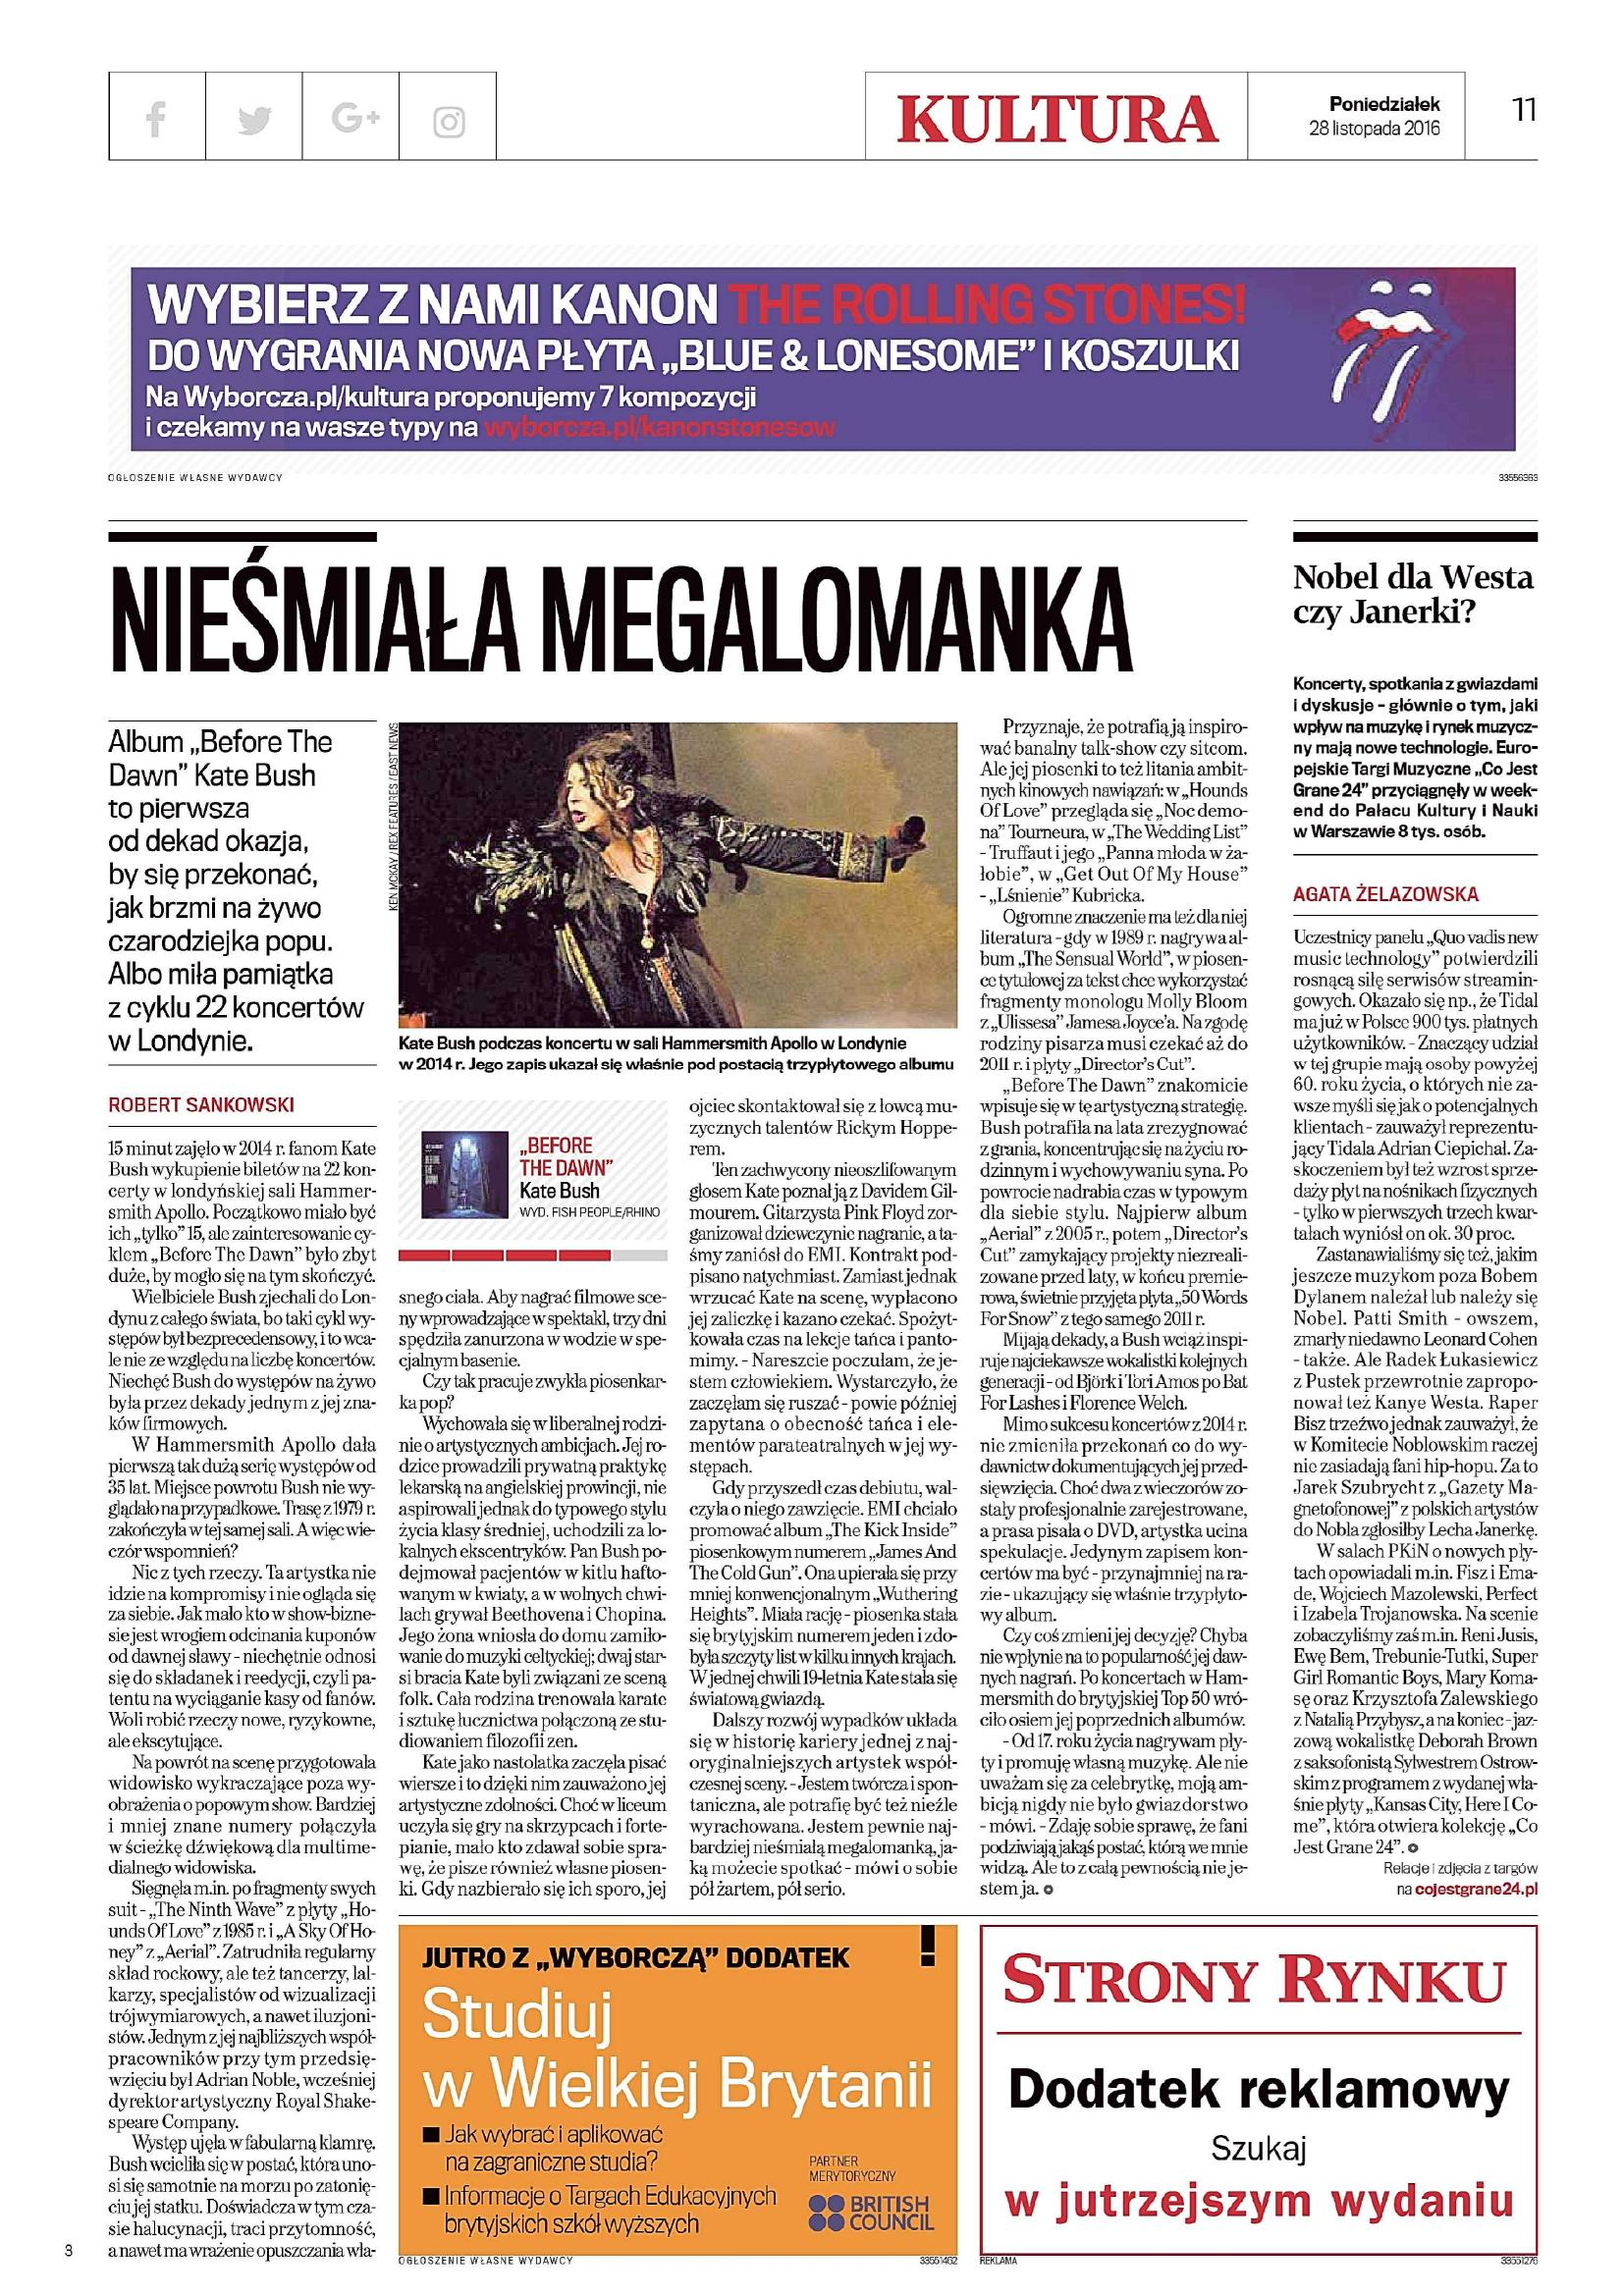article: (93, 523, 1266, 2280), (1284, 525, 1554, 1910)
